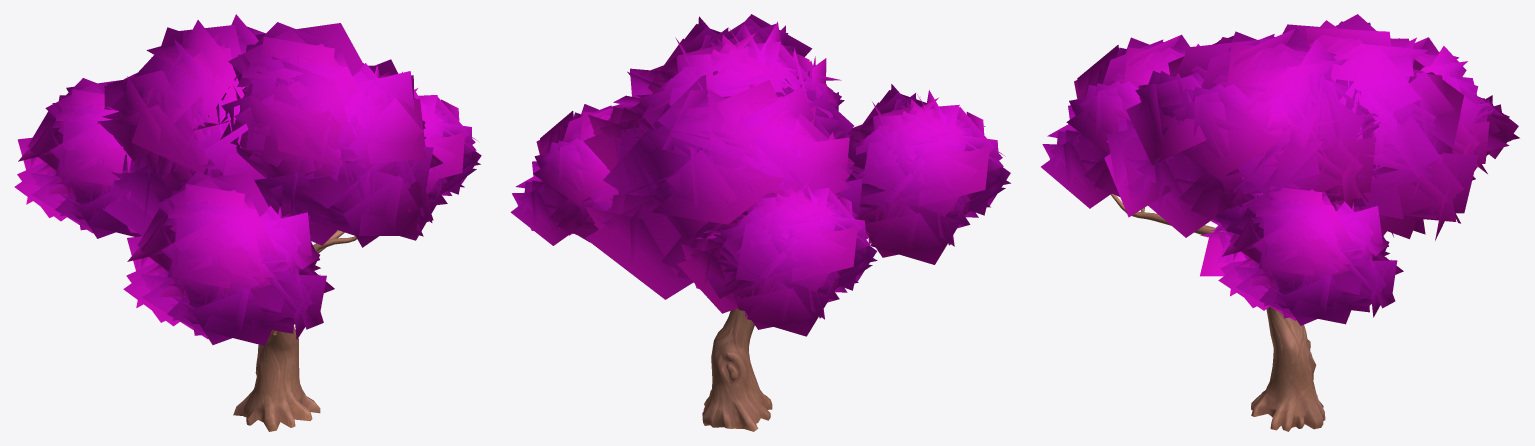
File: TreeBigOak_GEO.fbx
3 renders of one model, left to right at view 1: azimuth 30°, elevation 25°; view 2: azimuth 150°, elevation 25°; view 3: azimuth 270°, elevation 25°, orthographic. The views are drawn at different scales.
Visible parts, largest first — view 1: TreeBigOak_bush_LOD0, TreeBigOak_LOD0; view 2: TreeBigOak_bush_LOD0, TreeBigOak_LOD0; view 3: TreeBigOak_bush_LOD0, TreeBigOak_LOD0.
Part boxes in pixels (x1=…): TreeBigOak_bush_LOD0: x1=14, y1=14, x2=481, y2=345; TreeBigOak_LOD0: x1=233, y1=230, x2=356, y2=431; TreeBigOak_bush_LOD0: x1=510, y1=14, x2=1010, y2=336; TreeBigOak_LOD0: x1=702, y1=308, x2=772, y2=431; TreeBigOak_bush_LOD0: x1=1041, y1=14, x2=1519, y2=325; TreeBigOak_LOD0: x1=1110, y1=194, x2=1325, y2=431.
Size of what is drawn, in the model's own units: 28.24 by 25.42 by 28.57.
1 material, 1 textured.
